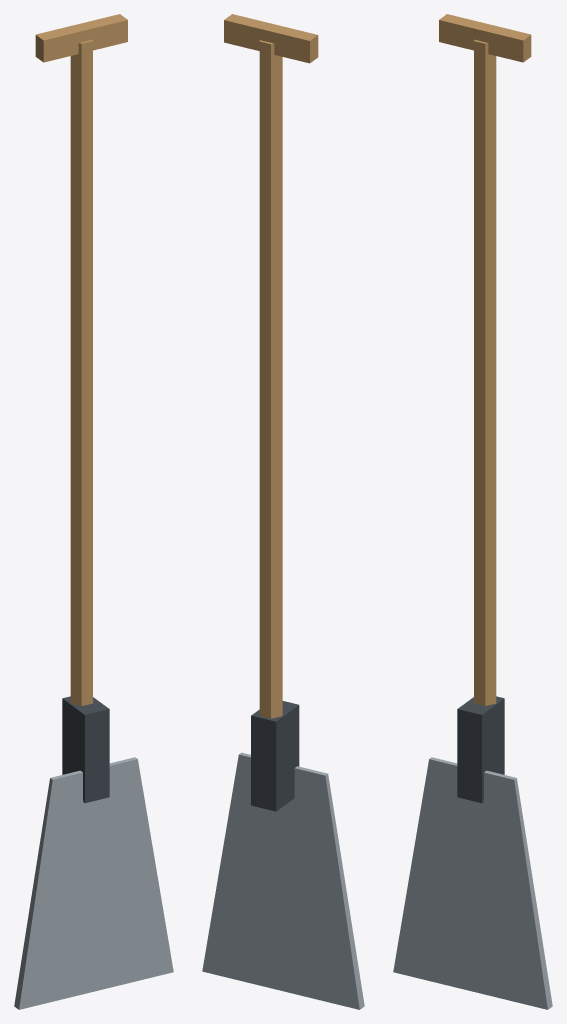
Rendered from GT_Shovel_01.glb.
3 renders of one model, left to right at view 1: azimuth 30°, elevation 25°; view 2: azimuth 150°, elevation 25°; view 3: azimuth 330°, elevation 25°, orthographic.
Visible parts, largest first — view 1: GT_Shovel_01; view 2: GT_Shovel_01; view 3: GT_Shovel_01.
Boxes of the visible parts, x1=… form: GT_Shovel_01: x1=14, y1=14, x2=173, y2=1009; GT_Shovel_01: x1=202, y1=14, x2=364, y2=1009; GT_Shovel_01: x1=393, y1=14, x2=552, y2=1009.
Bounding box in the file's own units: 0.22 × 1.29 × 0.056.
Materials: 1 (1 with a texture image).
